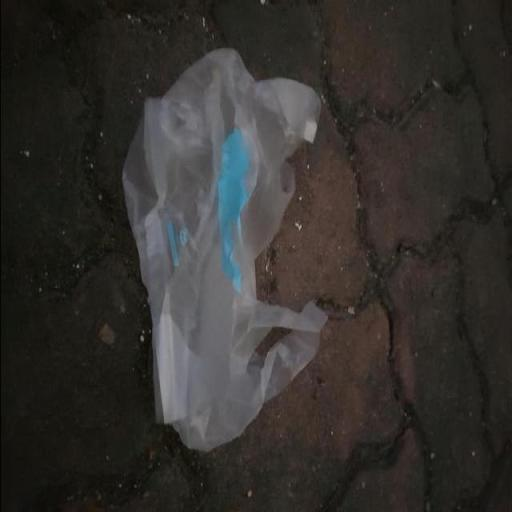plastic-bag: (118, 48, 322, 458)
